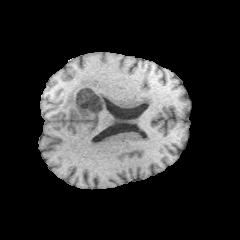glioma: (63, 79, 140, 136)
